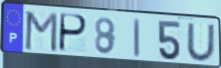5: (156, 19, 181, 61)
8: (93, 16, 117, 56)
I: (133, 17, 141, 59)
M: (23, 10, 59, 54)
P: (57, 12, 89, 55)
U: (185, 22, 217, 63)
